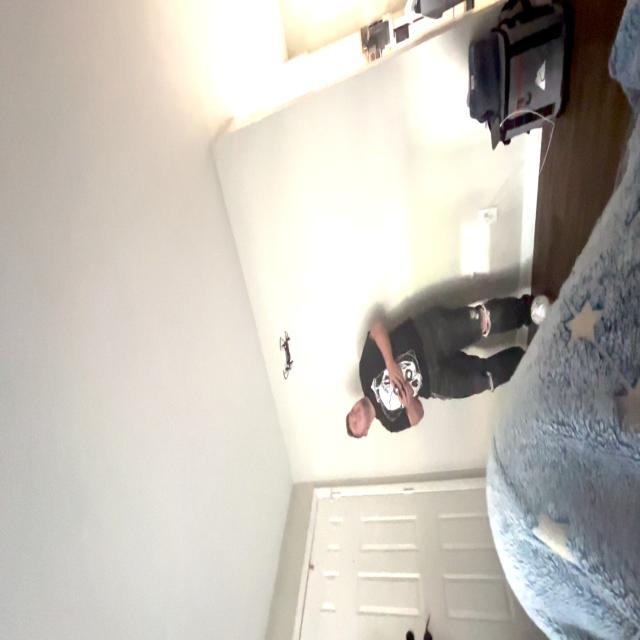drone: (268, 316, 302, 397)
